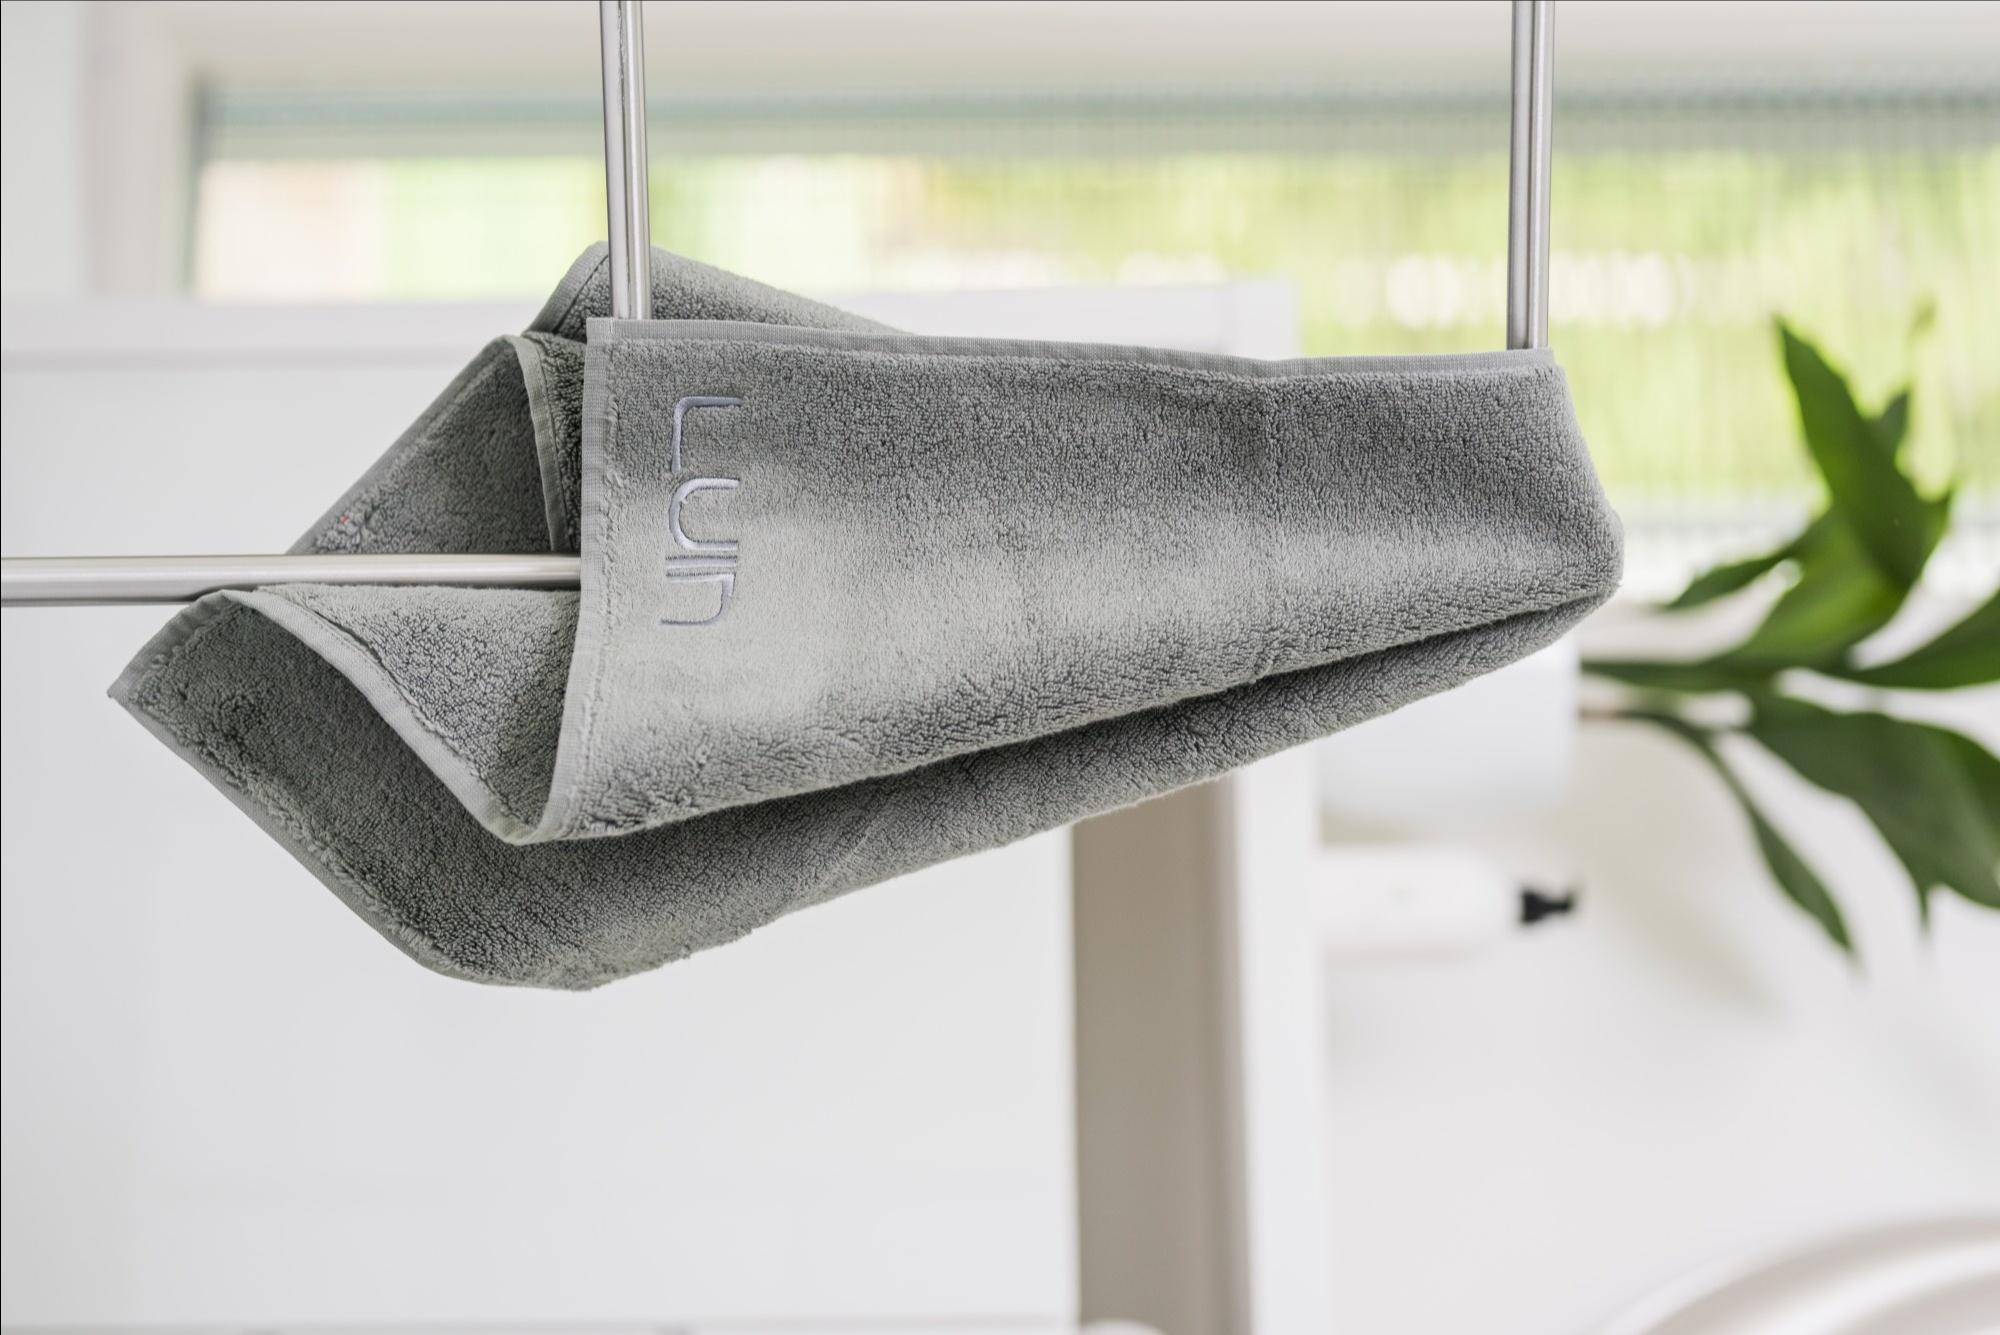towel: (103, 250, 1637, 890)
